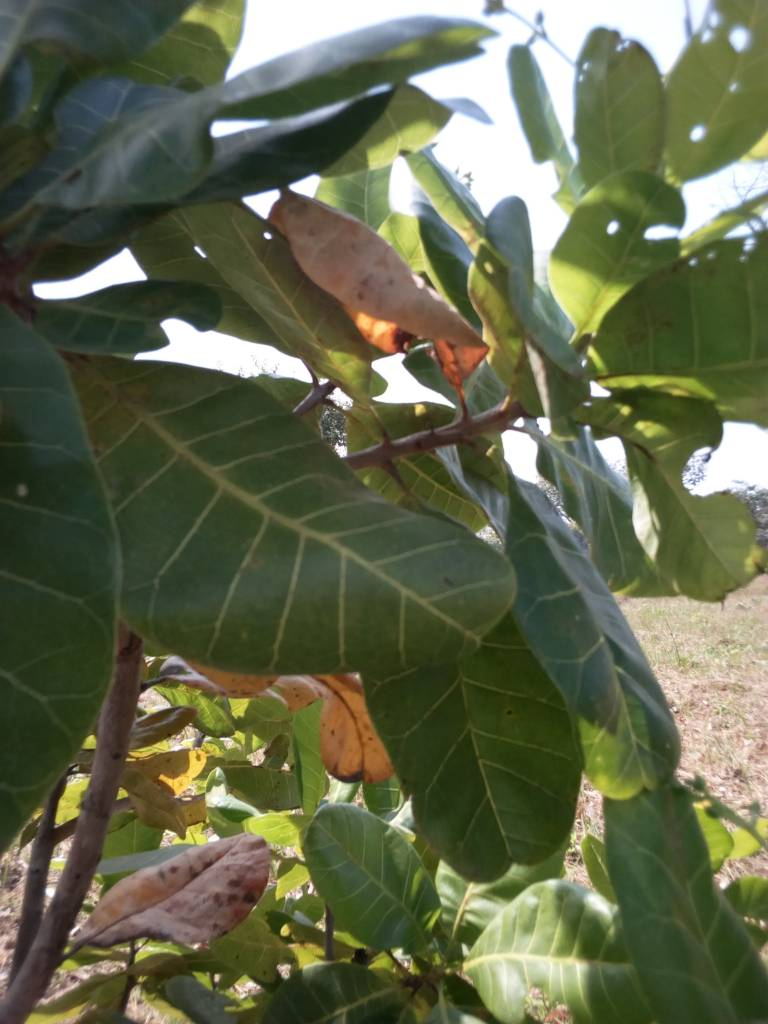Helopeltis anacardii: (111, 352, 510, 672), (615, 389, 763, 596), (474, 242, 593, 408)
